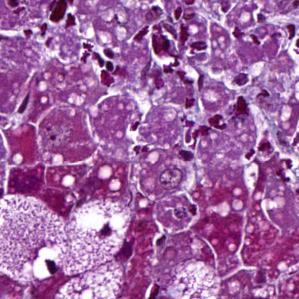ballooning: (69, 193, 133, 252)
